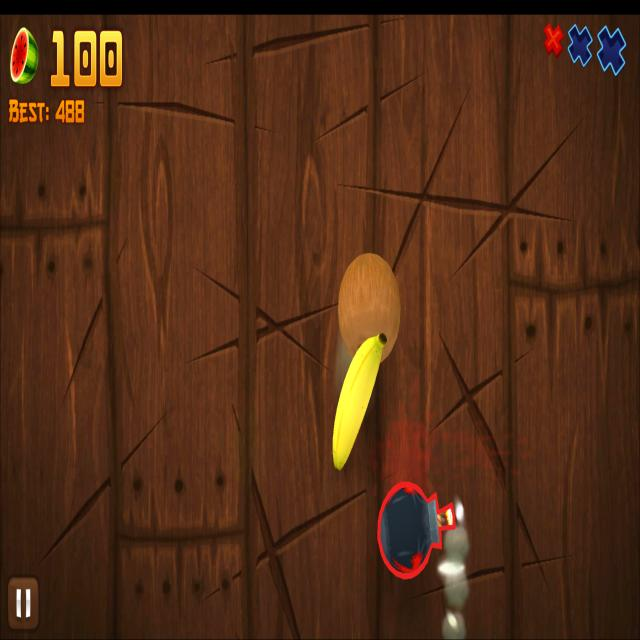bomb: (376, 480, 456, 583)
fruit: (332, 333, 384, 471), (338, 252, 402, 364)
